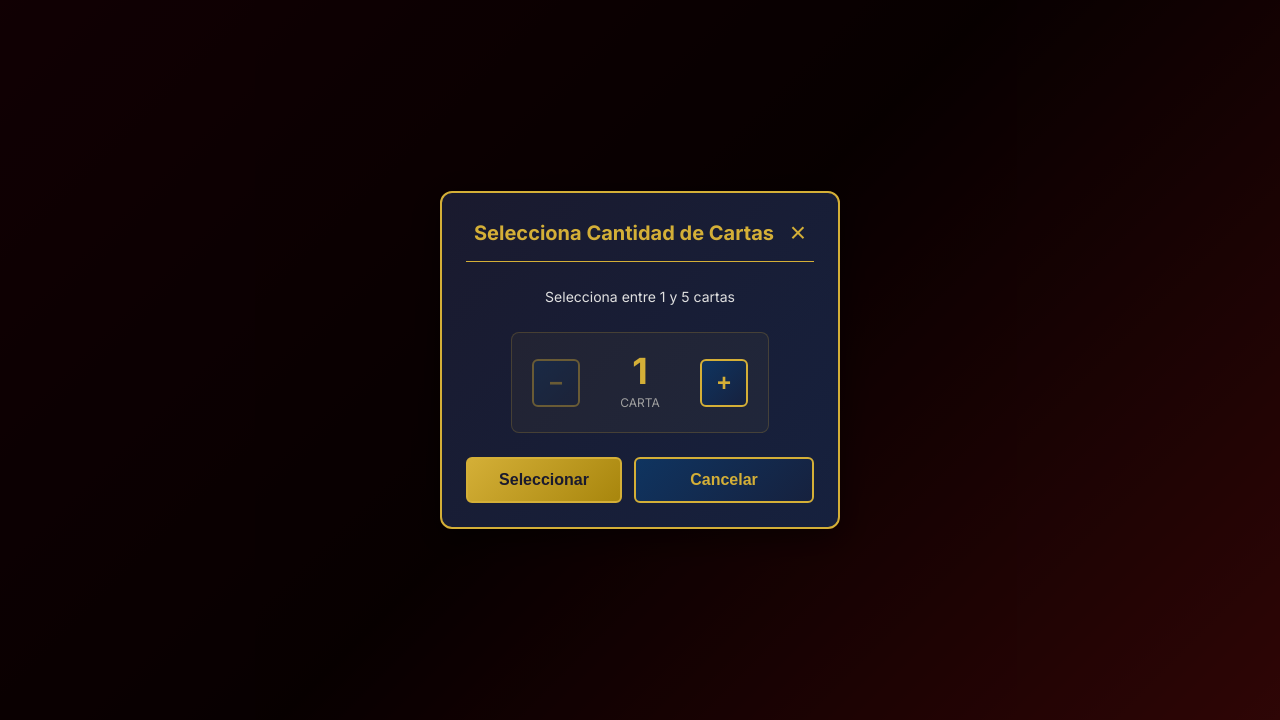
Test: ModalSeleccionarCantidad › Incrementar cantidad › incrementa la cantidad al hacer click en el botón +
Click the button named "Aumentar cantidad": x=724, y=383 left=700, top=359, right=748, bottom=407
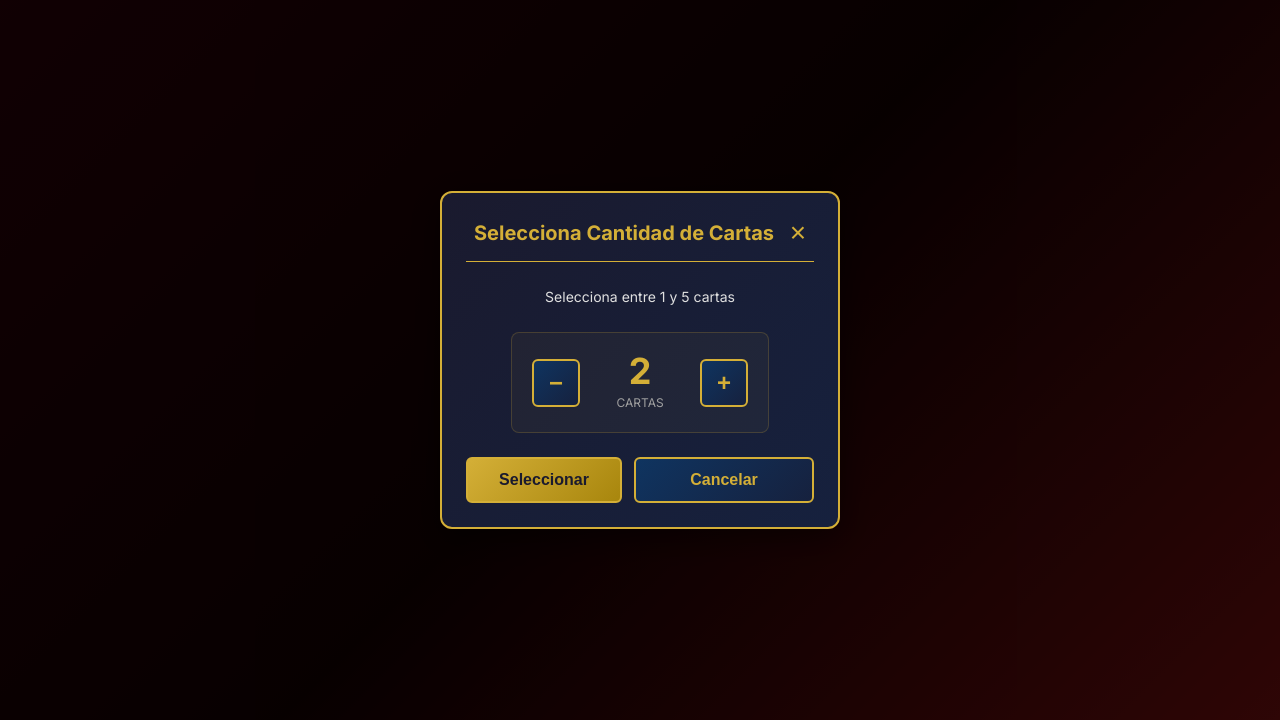
Now the text "2" is shown, box left=629, top=353, right=651, bottom=389
